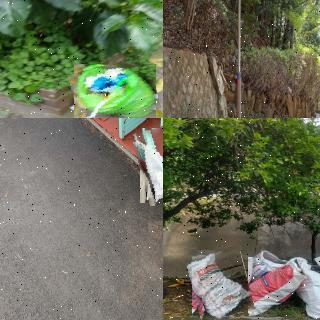Garbage: (71, 59, 158, 118), (189, 247, 252, 320), (243, 258, 302, 315), (135, 126, 163, 204), (307, 114, 316, 118)
